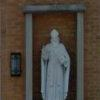Statue: (33, 18, 79, 100)
